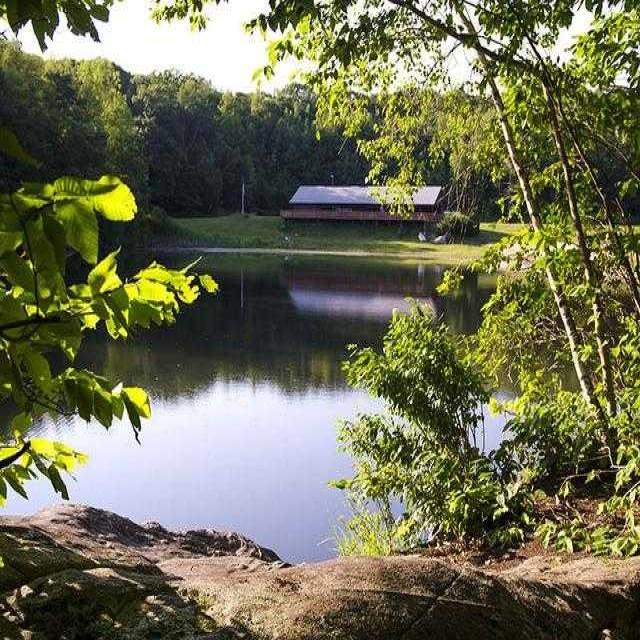Ponds: (70, 255, 508, 566)
